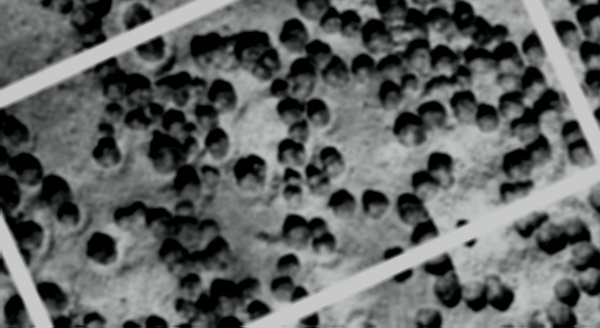halobolite: (239, 26, 281, 82), (131, 7, 170, 59), (496, 133, 550, 169), (189, 17, 224, 68), (346, 48, 391, 86), (282, 59, 323, 100), (306, 218, 341, 263), (292, 289, 328, 328), (394, 102, 429, 142), (156, 184, 187, 229), (115, 124, 148, 165), (420, 247, 453, 288), (1, 109, 38, 145), (464, 35, 492, 82), (117, 65, 153, 101), (423, 145, 454, 186), (126, 185, 159, 223), (191, 261, 223, 300), (145, 85, 176, 125), (219, 241, 250, 281), (534, 218, 570, 252), (234, 152, 267, 189), (500, 169, 533, 206), (277, 87, 304, 131), (449, 82, 481, 119), (521, 60, 552, 98), (411, 185, 439, 227), (223, 49, 253, 88), (395, 34, 425, 73), (512, 199, 546, 233), (324, 186, 357, 221), (500, 88, 532, 124), (558, 123, 590, 159), (106, 91, 136, 129), (200, 105, 233, 139), (553, 12, 585, 47), (267, 270, 299, 303), (14, 230, 48, 261), (93, 140, 122, 176), (409, 300, 446, 328), (8, 166, 35, 204), (430, 171, 462, 203), (38, 176, 70, 207), (272, 248, 304, 279), (279, 166, 309, 199), (171, 112, 200, 146), (438, 275, 467, 309), (384, 244, 413, 278), (433, 205, 463, 237), (21, 200, 49, 234), (85, 230, 113, 263), (414, 9, 452, 33), (521, 26, 546, 62), (81, 29, 110, 60), (363, 189, 392, 220), (279, 19, 312, 46), (7, 290, 40, 317), (50, 298, 79, 328), (41, 274, 73, 301), (246, 297, 279, 322), (487, 276, 511, 310), (549, 300, 578, 328), (77, 303, 109, 328), (279, 213, 307, 241), (336, 9, 365, 36), (141, 303, 172, 328), (375, 83, 406, 108), (161, 151, 187, 180), (209, 80, 235, 109), (170, 246, 193, 278), (186, 298, 220, 319), (278, 139, 304, 166), (152, 125, 174, 156), (82, 1, 113, 23), (7, 264, 32, 291), (111, 166, 141, 188), (172, 67, 193, 96), (303, 167, 326, 193), (307, 101, 329, 127), (414, 65, 435, 91), (552, 282, 576, 304), (188, 61, 212, 82), (327, 146, 348, 165), (141, 154, 160, 173), (432, 48, 450, 68)
